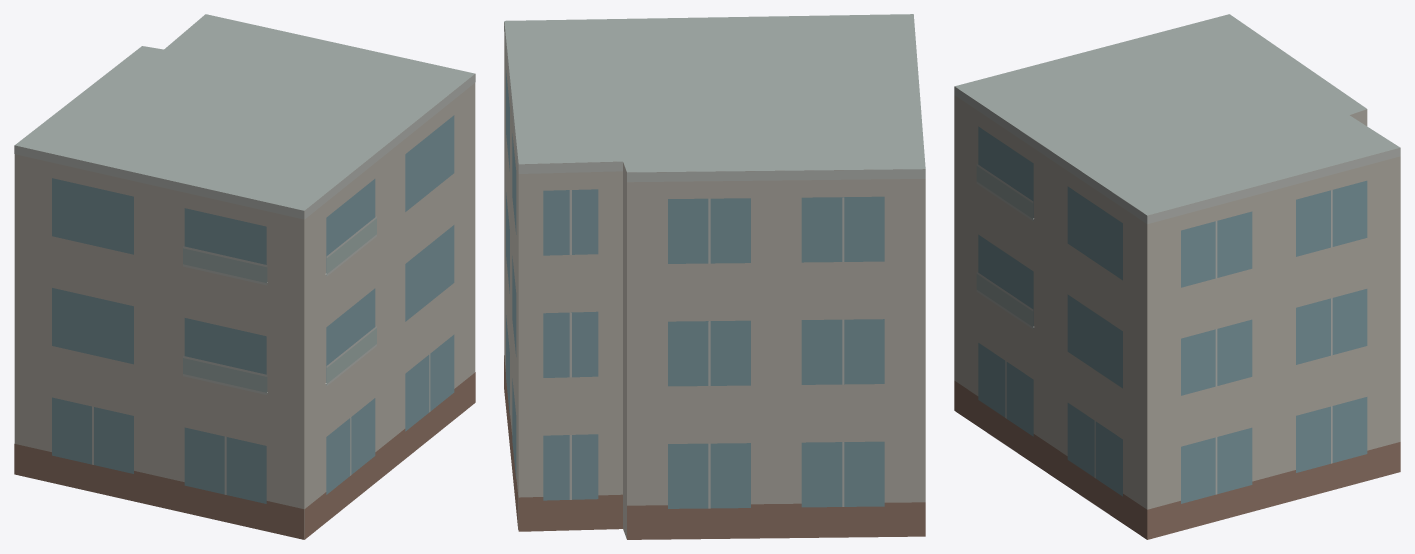
Rendered from survey-upis-32792687.glb.
3 views of the same model, side by side, from view 1: azimuth 30°, elevation 25°; view 2: azimuth 150°, elevation 25°; view 3: azimuth 270°, elevation 25° (orthographic). The views are drawn at different scales.
Visible parts, largest first — view 1: survey-upis-32792687.tmp; view 2: survey-upis-32792687.tmp; view 3: survey-upis-32792687.tmp.
Boxes of the visible parts, x1,y1,x2,y2 form: survey-upis-32792687.tmp: [14, 14, 475, 539]; survey-upis-32792687.tmp: [504, 14, 925, 539]; survey-upis-32792687.tmp: [954, 14, 1400, 539].
Bounding box in the file's own units: 12.21 × 9.15 × 11.42.
